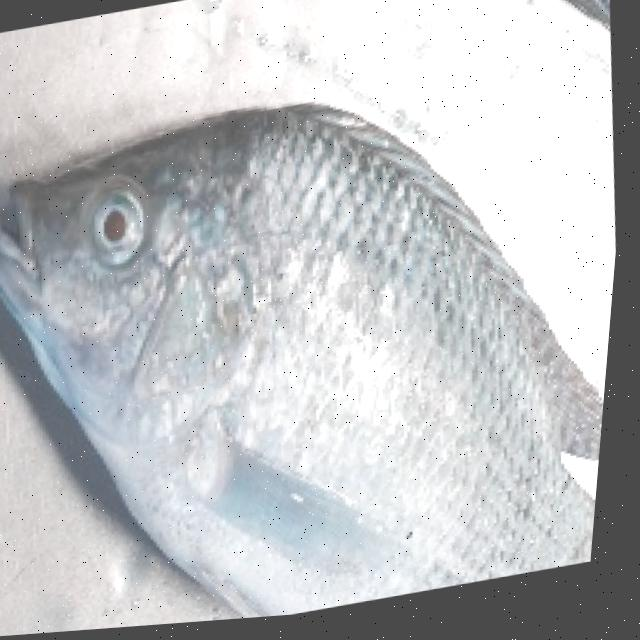Fresh: (0, 45, 623, 640)
